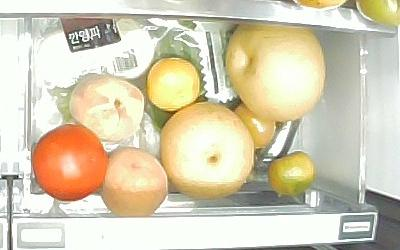peach: (69, 72, 146, 145), (98, 146, 168, 217)
pear: (225, 22, 327, 120), (159, 100, 254, 200)
tangerine: (145, 56, 201, 113), (268, 150, 315, 198), (234, 103, 276, 150)
tomato: (31, 123, 108, 202)
